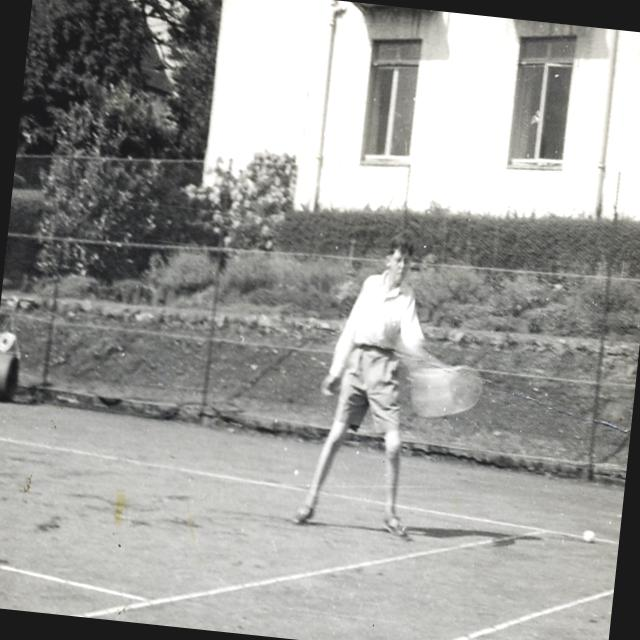Tennis Ball: (584, 529, 594, 542)
